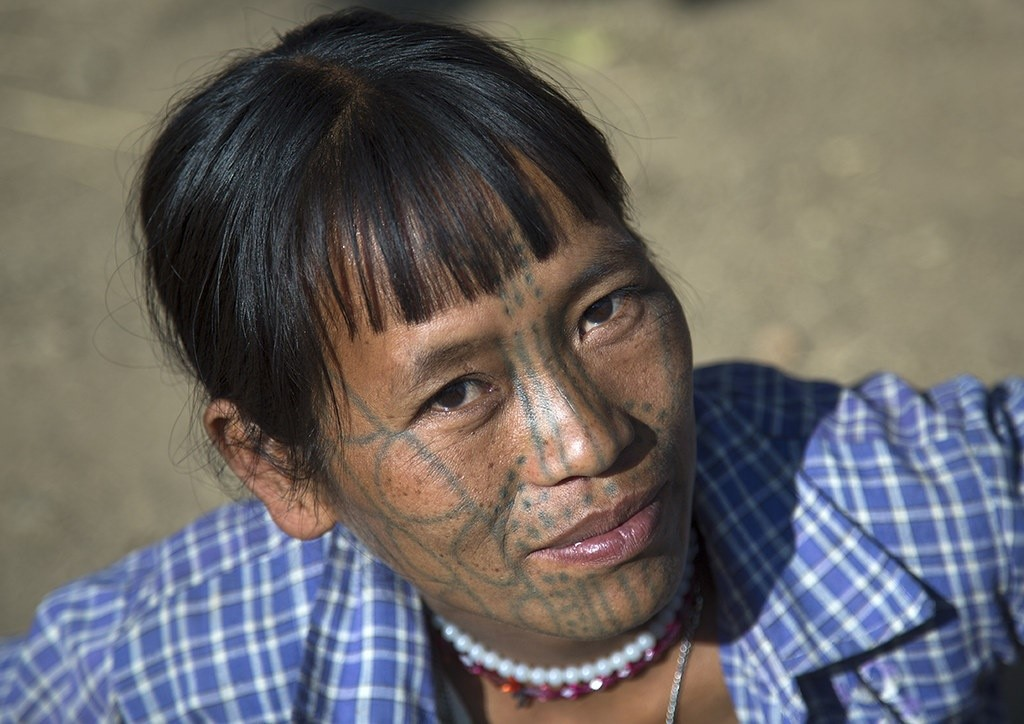face_no_mask: (138, 11, 697, 642)
